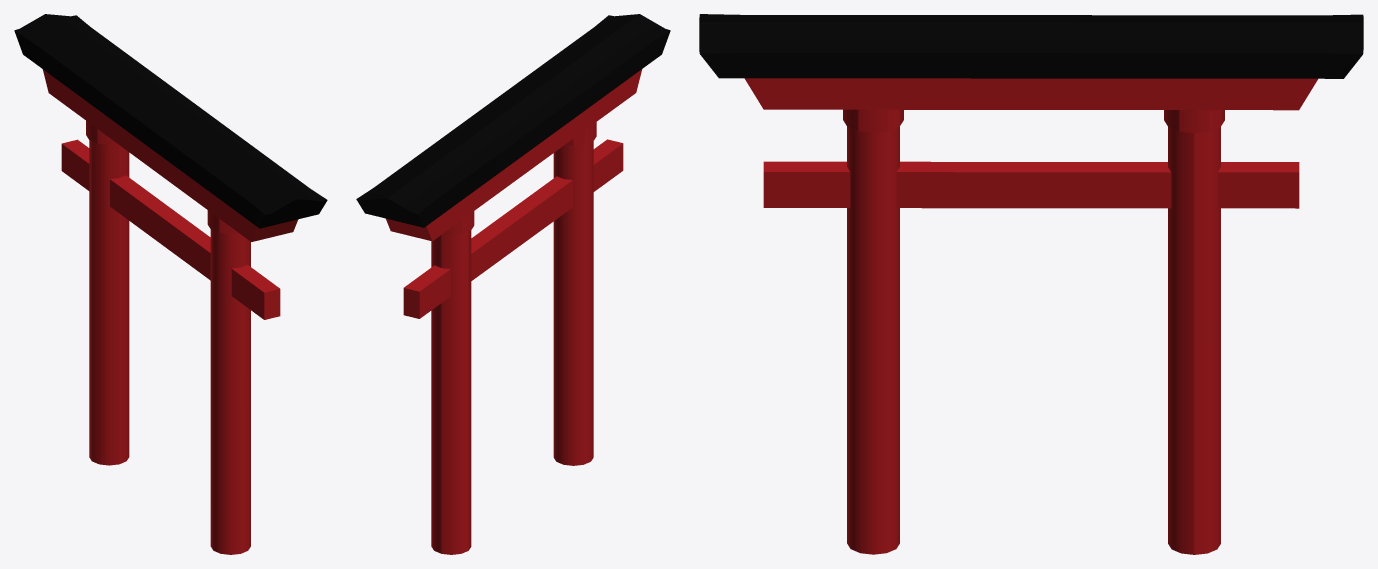
File: Torii2.fbx
3 renders of one model, left to right at view 1: azimuth 30°, elevation 25°; view 2: azimuth 150°, elevation 25°; view 3: azimuth 270°, elevation 25°, orthographic. The views are drawn at different scales.
Visible parts, largest first — view 1: Cube, Cylinder, Cylinder.001, Cube.002; view 2: Cube, Cylinder.001, Cylinder, Cube.002; view 3: Cube, Cylinder, Cylinder.001, Cube.002.
Boxes of the visible parts, x1,y1,x2,y2 form: Cube: [14, 14, 327, 241]; Cylinder: [207, 210, 250, 554]; Cylinder.001: [86, 121, 129, 465]; Cube.002: [61, 139, 280, 319]; Cube: [356, 14, 670, 241]; Cylinder.001: [431, 211, 474, 554]; Cylinder: [553, 122, 596, 465]; Cube.002: [403, 139, 623, 318]; Cube: [699, 14, 1363, 110]; Cylinder: [843, 109, 903, 554]; Cylinder.001: [1164, 110, 1224, 554]; Cube.002: [763, 161, 1299, 208].
Size of the model in its own units: 62.77 by 376 by 435.
